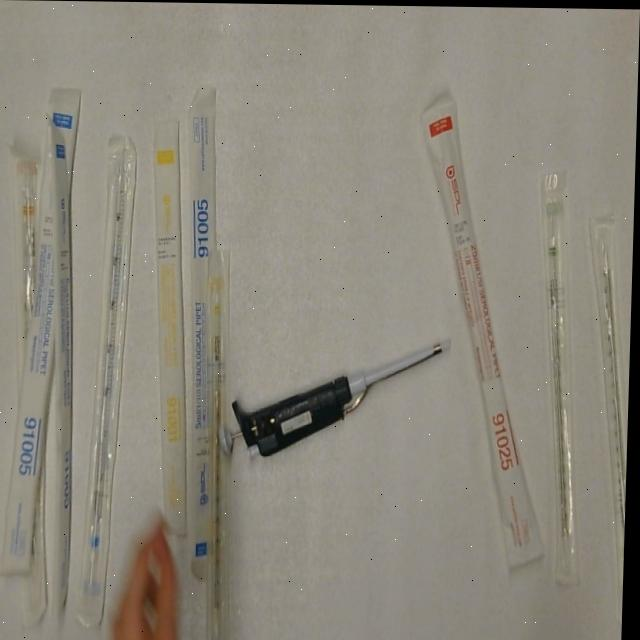Serelogical Pipet 1 mL: (142, 114, 200, 540), (199, 246, 247, 640)
Serelogical Pipet 10 mL: (4, 145, 49, 400)
Serelogical Pipet 2 mL: (531, 162, 596, 595)
Serelogical Pipet 25 mL: (411, 92, 562, 574)
Serelogical Pipet 5 mL: (2, 79, 86, 585), (78, 133, 143, 631), (177, 77, 236, 581), (35, 109, 86, 623)
Single Channel Pipettor: (214, 328, 457, 464)
